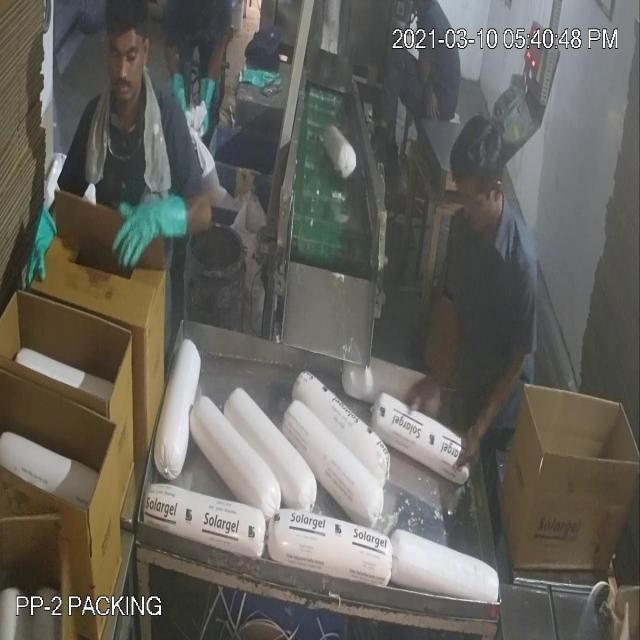Gloves: (44, 102, 499, 395)
